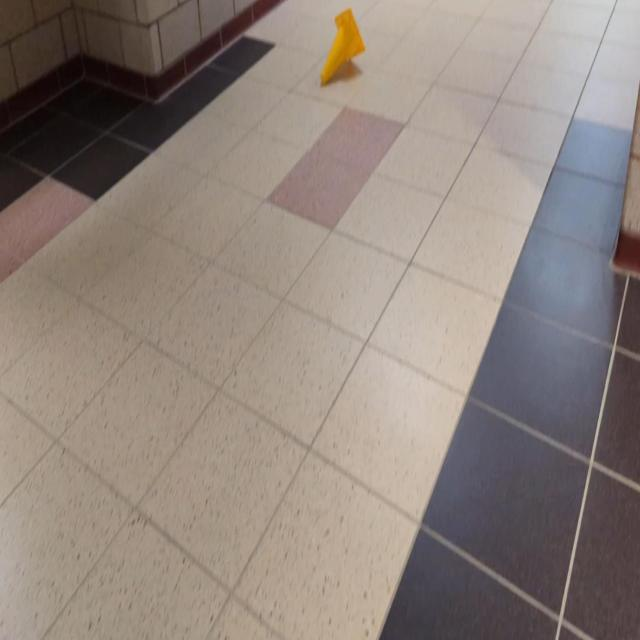frc_cone: (320, 9, 366, 83)
